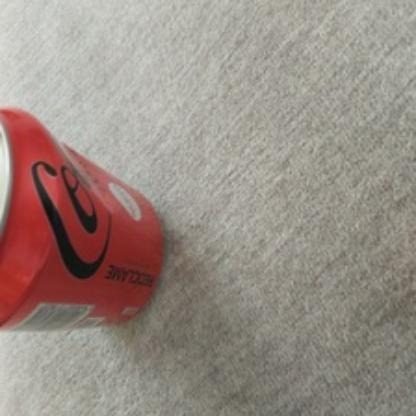Can: (0, 106, 164, 330)
